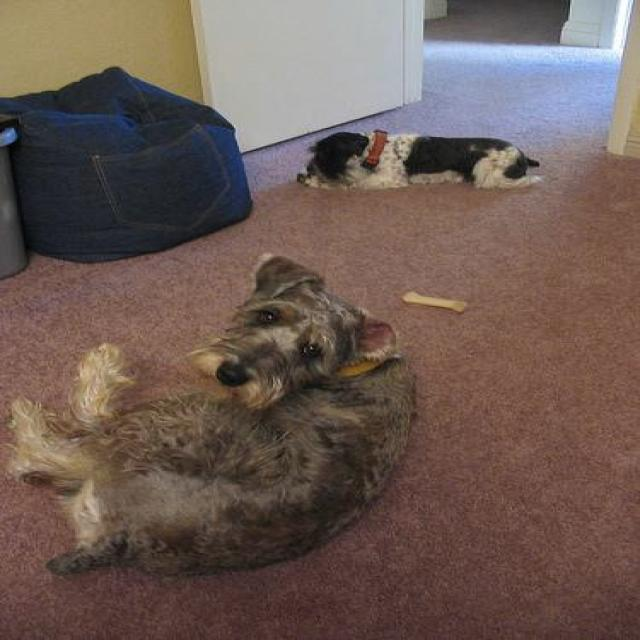standard_schnauzer: (0, 247, 423, 577), (299, 130, 539, 192)
